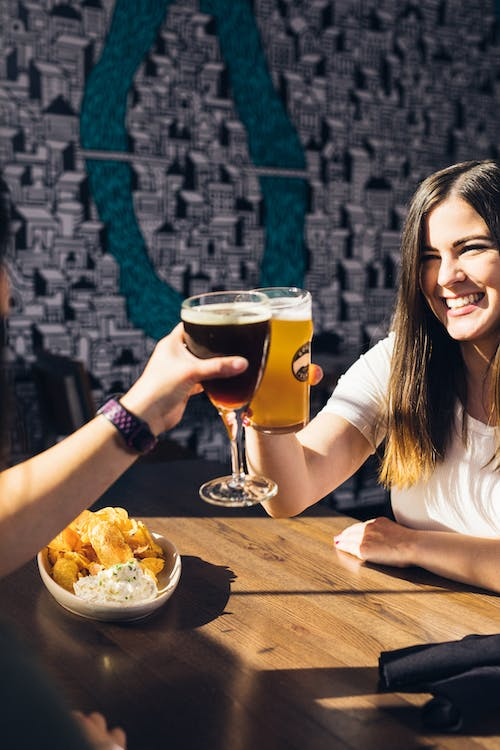alcohol: (177, 289, 280, 508), (243, 287, 313, 437)
